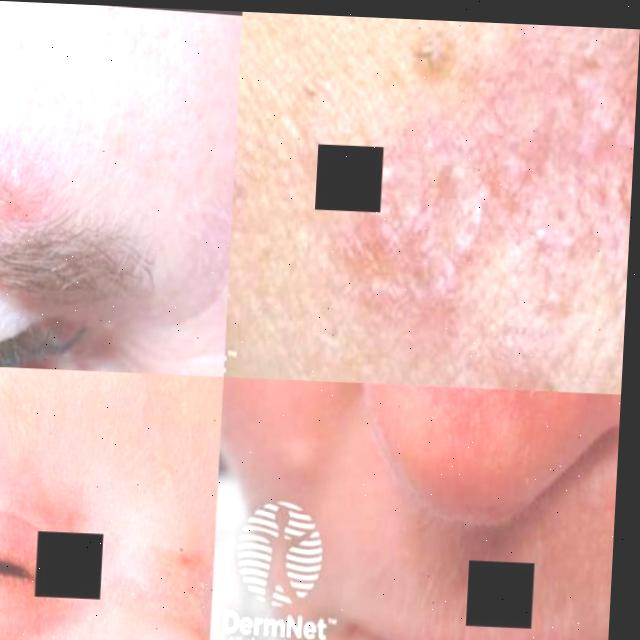lupus-detected: (348, 16, 639, 394), (0, 454, 219, 640), (366, 383, 621, 486), (0, 130, 102, 268), (229, 117, 321, 269)
